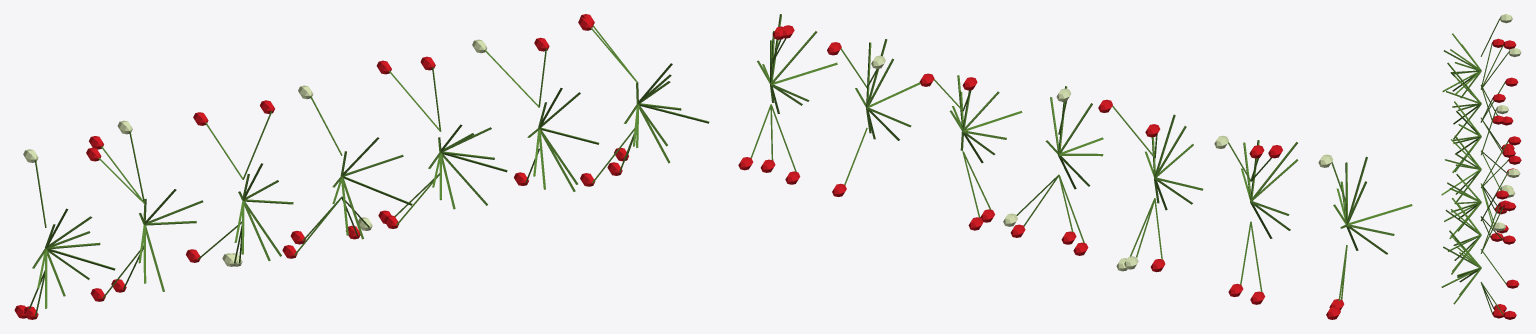
Rendered from r2c0_rest.obj.
The picture shows the model from 3 angles, left to right: view 1: azimuth 30°, elevation 25°; view 2: azimuth 150°, elevation 25°; view 3: azimuth 270°, elevation 25°; orthographic projection. The views are drawn at different scales.
Parts seen in each view (by area): view 1: r2c0_rest; view 2: r2c0_rest; view 3: r2c0_rest.
Boxes of the visible parts, left/top/right/bottom form: r2c0_rest: left=14, top=14, right=709, bottom=319; r2c0_rest: left=738, top=14, right=1412, bottom=319; r2c0_rest: left=1441, top=14, right=1521, bottom=319.
Size of the model in its own units: 1.71 by 0.4052 by 0.2583.
